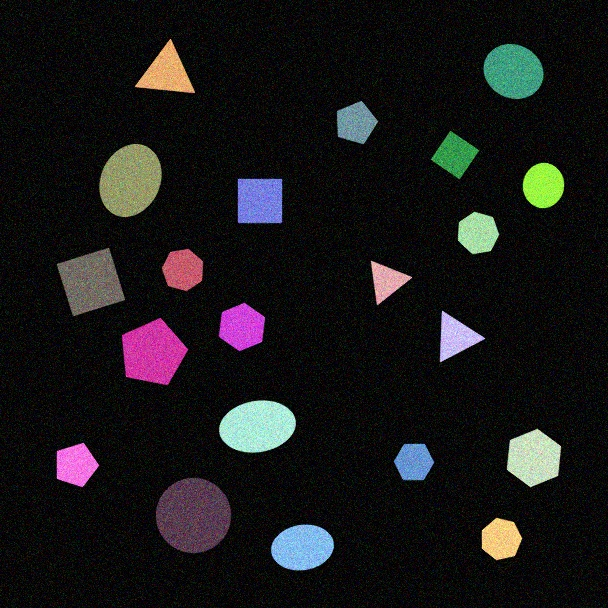Circulo: (155, 477, 232, 554), (483, 43, 544, 100), (522, 162, 565, 209)
Elipse: (99, 143, 162, 218), (218, 400, 297, 453), (270, 524, 335, 571)
Heptagono: (457, 211, 500, 255), (161, 248, 204, 292), (481, 517, 523, 561)
Hexagono: (506, 428, 562, 488), (218, 302, 266, 352), (393, 443, 435, 481)
Pentagono: (121, 317, 189, 386), (56, 442, 100, 488), (336, 100, 379, 145)
Quadrado: (56, 247, 126, 317), (430, 130, 480, 180), (237, 178, 283, 224)
Triangulo: (134, 39, 196, 94), (439, 310, 486, 363), (370, 260, 413, 306)
